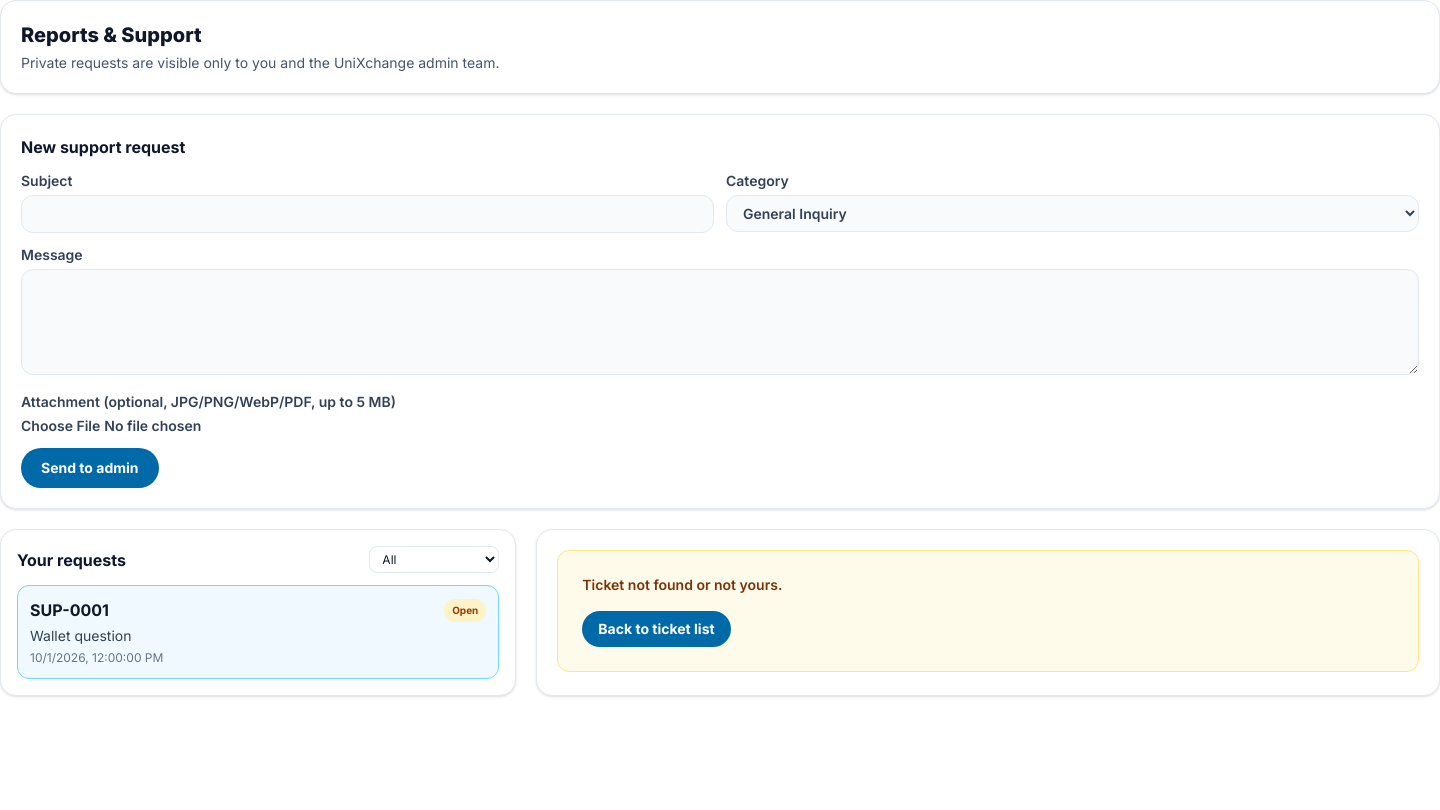
Test: ReportsInbox › shows a not-found message for a deep-linked ticket and returns to the ticket list
Check: the message shows "Ticket not found or not yours", box [582, 576, 782, 593]
Step 1. Click the button "Back to ticket list" → (657, 629), box [582, 611, 731, 647]
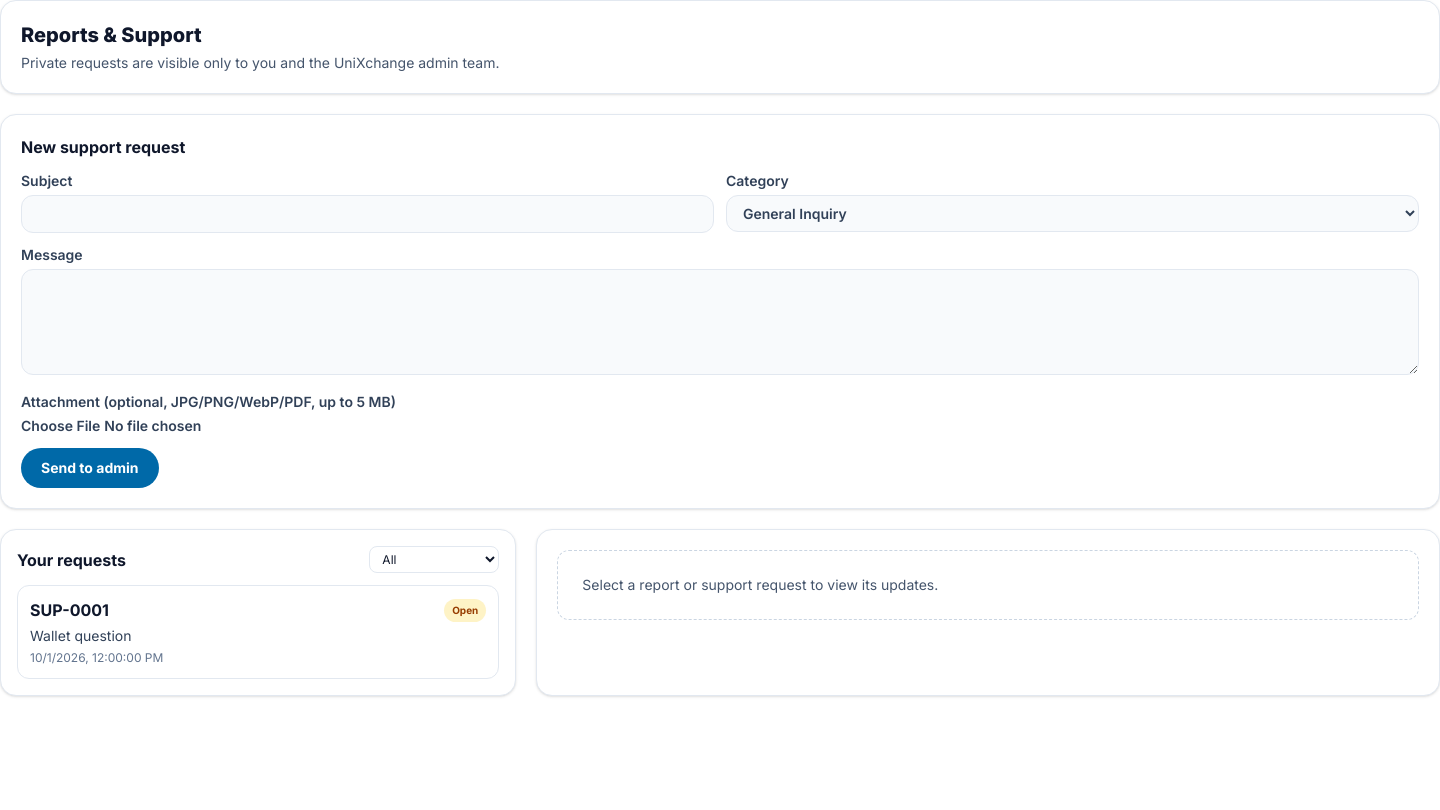
Check: the button "SUP-0001 Open Wallet question 10/1/2026, 12:00:00 PM" is shown, box [17, 585, 499, 679]
Check: the text "Select a report or support request to view its updates." is shown, box [557, 550, 1419, 620]
